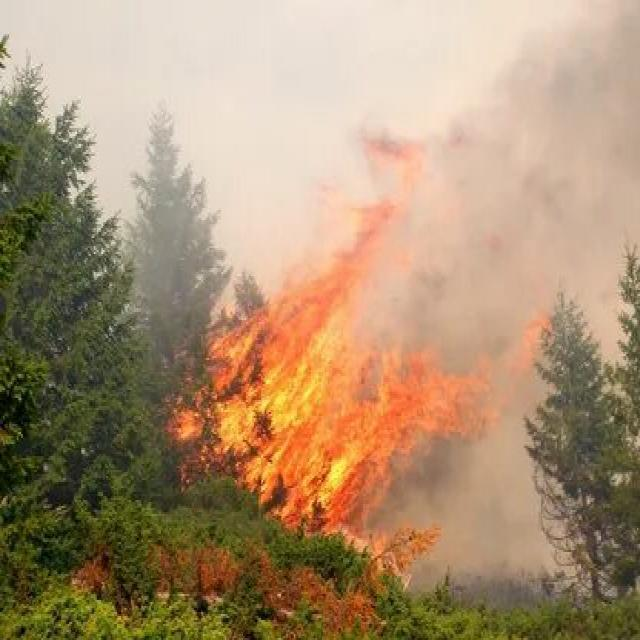Fire: (152, 219, 472, 565)
Smoke: (399, 0, 640, 590)
